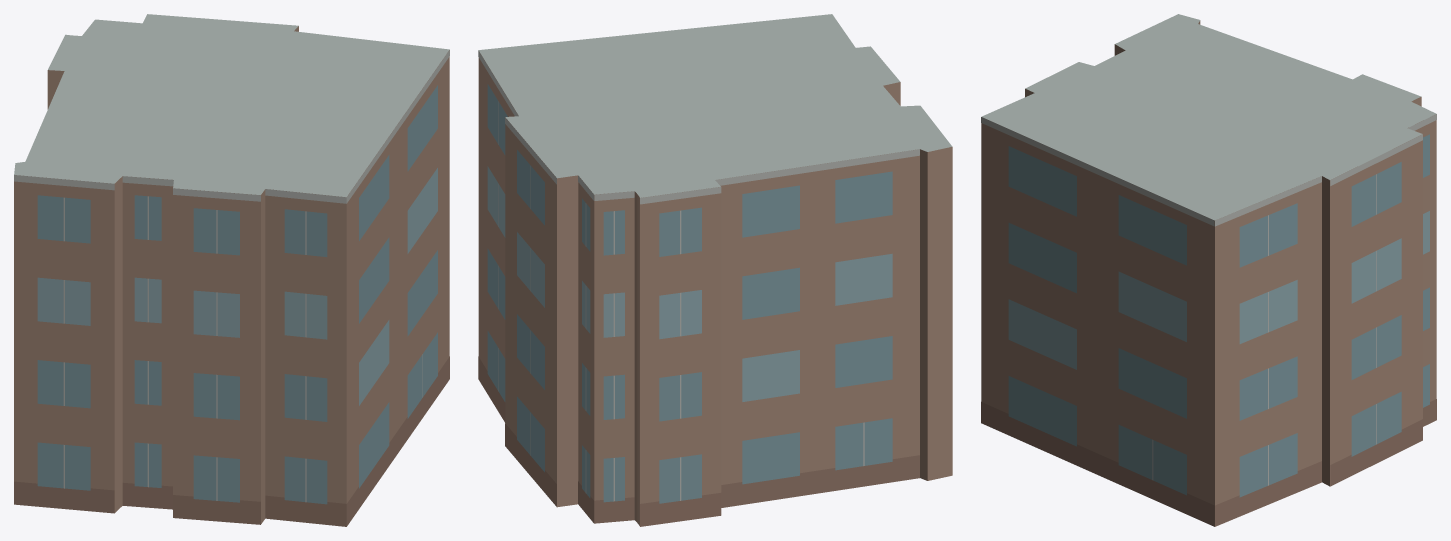
File: survey-upis-32684122.glb
3 views of the same model, side by side, from view 1: azimuth 30°, elevation 25°; view 2: azimuth 150°, elevation 25°; view 3: azimuth 270°, elevation 25° (orthographic). The views are drawn at different scales.
Visible parts, largest first — view 1: survey-upis-32684122.tmp; view 2: survey-upis-32684122.tmp; view 3: survey-upis-32684122.tmp.
Part boxes in pixels (bbox=[...]): survey-upis-32684122.tmp: bbox=[14, 14, 449, 526]; survey-upis-32684122.tmp: bbox=[478, 14, 952, 526]; survey-upis-32684122.tmp: bbox=[981, 14, 1436, 526].
Bounding box in the file's own units: 17.65 × 12.2 × 16.45.
